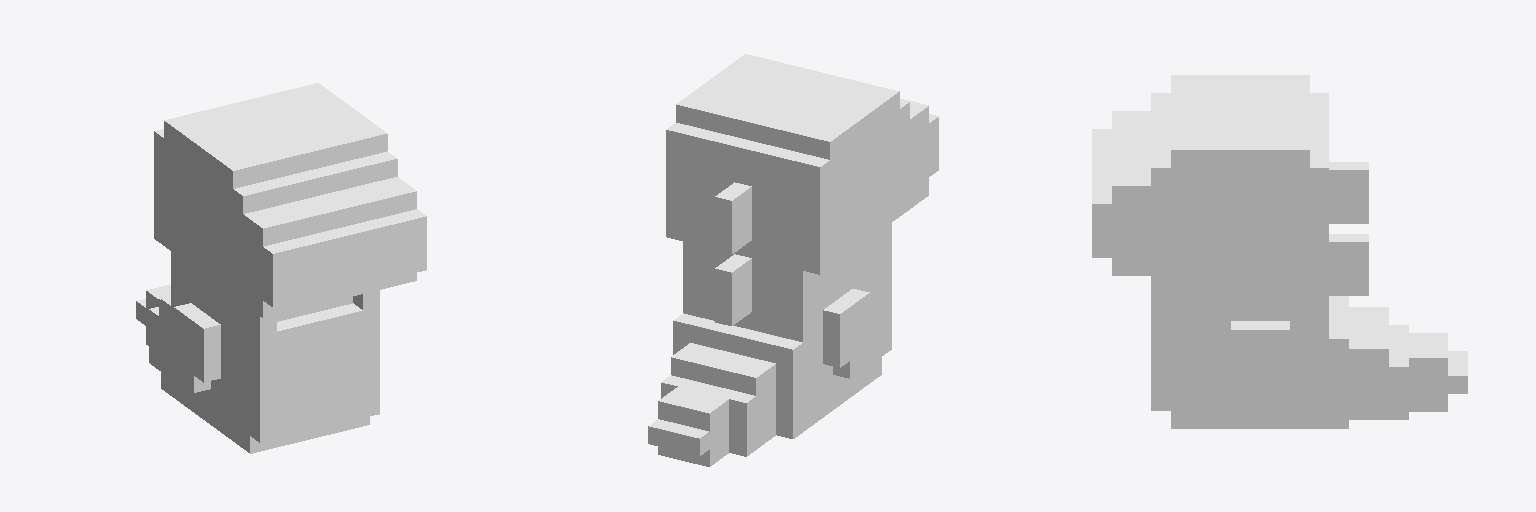
File: NewMonster-4.obj
3 views of the same model, side by side, from view 1: azimuth 30°, elevation 25°; view 2: azimuth 150°, elevation 25°; view 3: azimuth 270°, elevation 25° (orthographic).
Visible parts, largest first — view 1: object 1; view 2: object 1; view 3: object 1.
Boxes of the visible parts, <box> form: object 1: <box>136,83,426,453</box>; object 1: <box>648,54,938,466</box>; object 1: <box>1092,75,1467,428</box>.
Bounding box in the file's own units: 0.9 × 1.6 × 1.9.